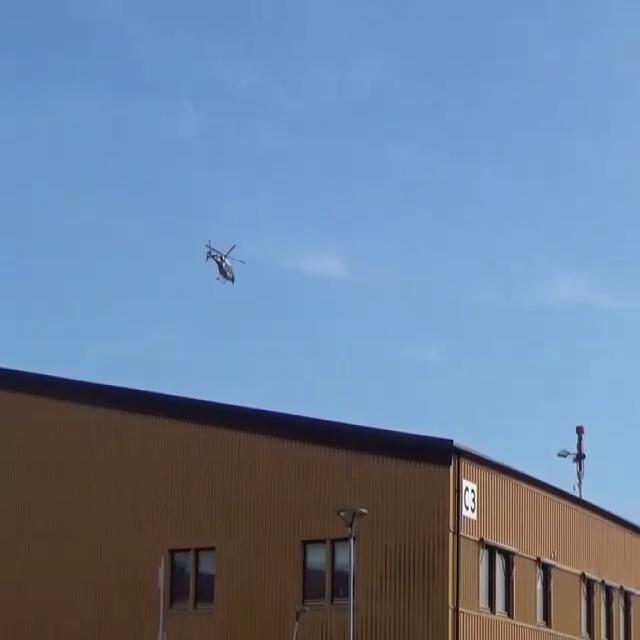Helicopter: (197, 230, 259, 303)
